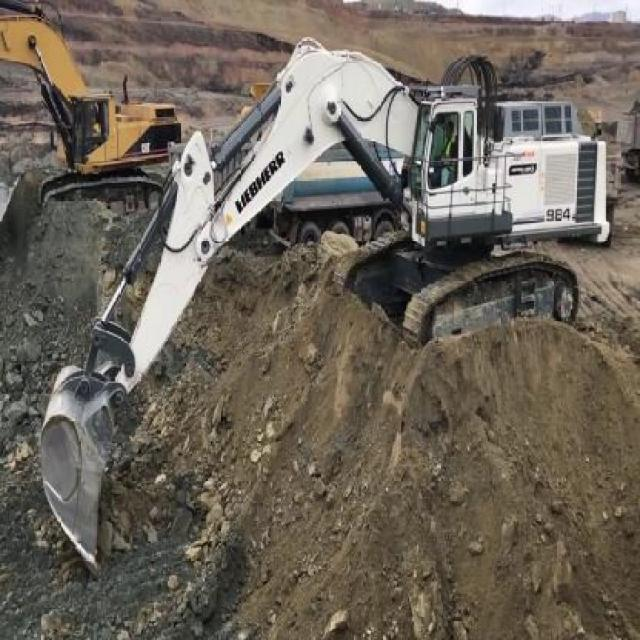Excavator: (37, 35, 614, 583), (0, 0, 177, 218)
